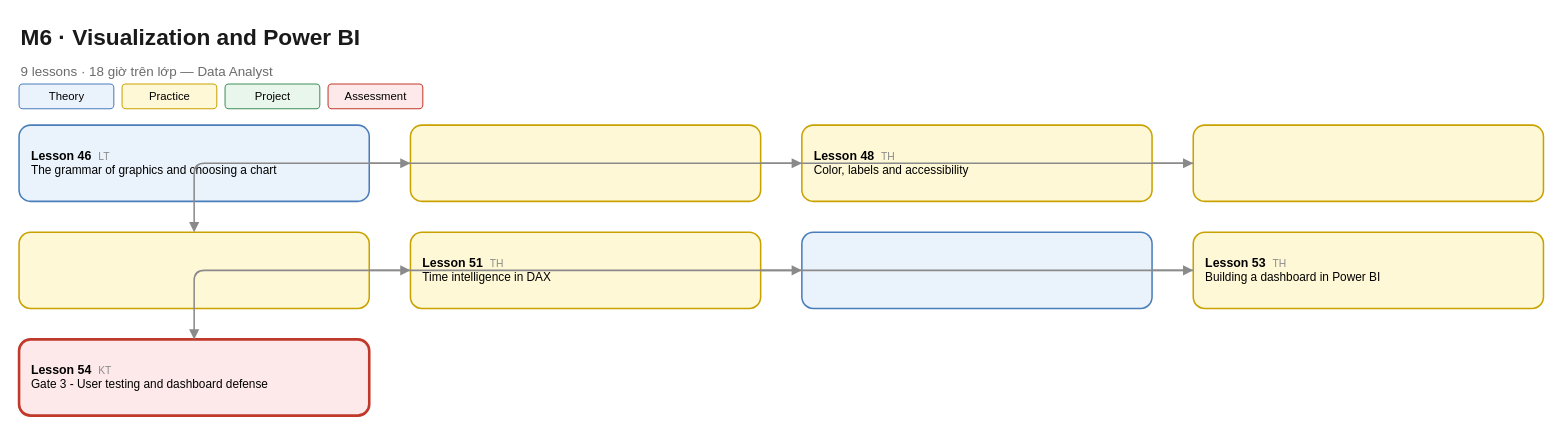
Image size: 1561x435. Some labels were removed from this diagram. The shapes that lost their labels are listed below. From the top down, each one's centre as x and y in pixels, then its label:
[585,163]: Lesson 47 TH Six ways a chart lies
[1368,163]: Lesson 49 TH Power BI - loading data and modeling
[194,270]: Lesson 50 TH DAX fundamentals
[976,270]: Lesson 52 LT Dashboard design
